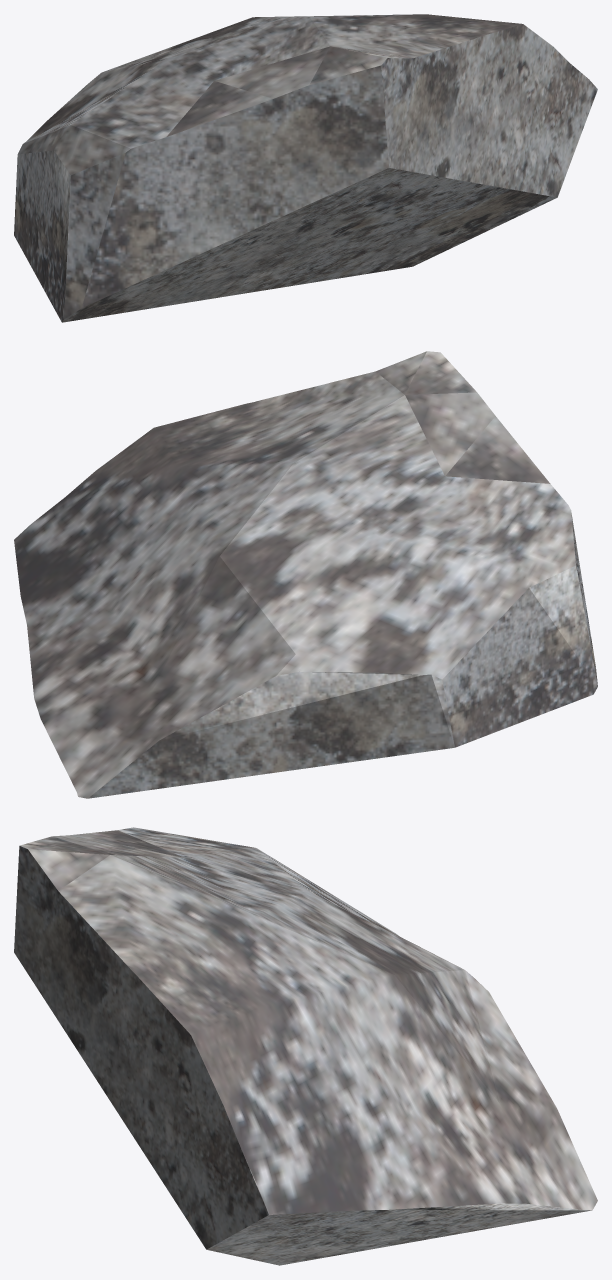
Rendered from Asteroid_Large_001_02_011_03_001.fbx.
3 views of the same model, one above another, from view 1: azimuth 30°, elevation 25°; view 2: azimuth 150°, elevation 25°; view 3: azimuth 270°, elevation 25° (orthographic). The views are drawn at different scales.
Visible parts, largest first — view 1: Asteroid_Large_001_02_011_03_001; view 2: Asteroid_Large_001_02_011_03_001; view 3: Asteroid_Large_001_02_011_03_001.
Boxes of the visible parts, x1,y1,x2,y2 form: Asteroid_Large_001_02_011_03_001: (14, 14, 597, 322); Asteroid_Large_001_02_011_03_001: (14, 351, 597, 798); Asteroid_Large_001_02_011_03_001: (14, 827, 597, 1265).
Bounding box in the file's own units: 13.91 × 7.64 × 11.82.
